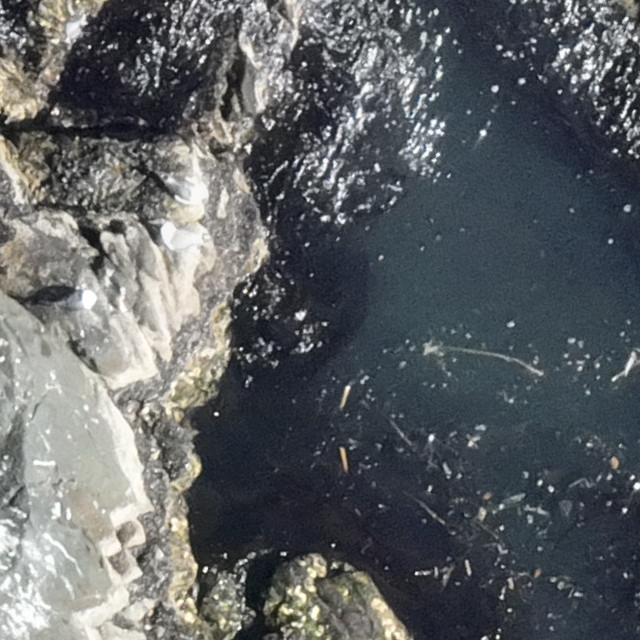umineko: (160, 221, 208, 252), (52, 289, 102, 316)
